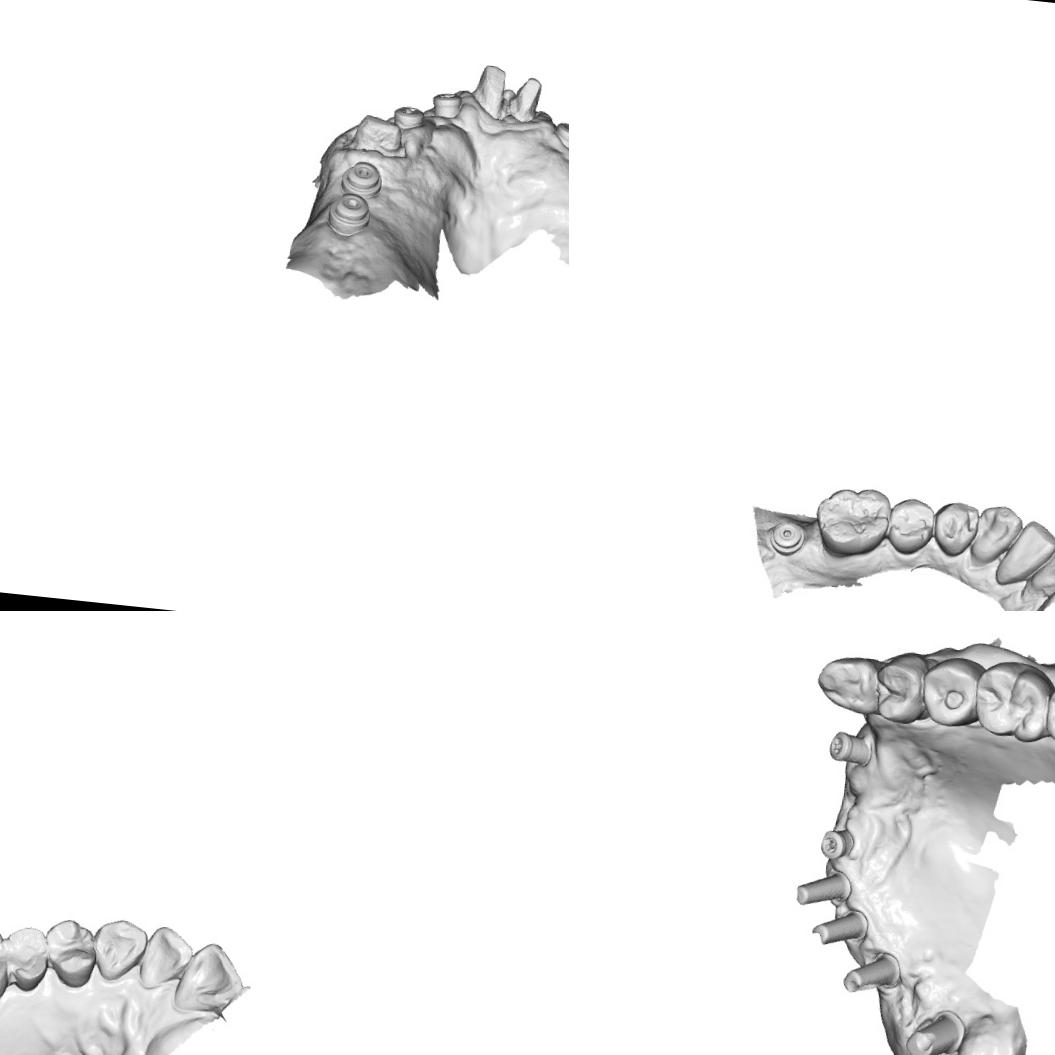abutment: (839, 945, 902, 999), (899, 1005, 966, 1055), (788, 866, 854, 911), (810, 905, 872, 950)
canine: (87, 912, 151, 986), (813, 652, 883, 717), (967, 501, 1026, 566)
crown: (467, 60, 510, 122), (504, 73, 546, 127)
implant: (322, 188, 375, 241), (337, 154, 386, 202), (768, 519, 809, 558), (426, 86, 464, 124), (388, 103, 426, 134), (551, 117, 569, 155)
implant_plus: (826, 728, 874, 770), (816, 824, 856, 862)
incisor: (170, 937, 250, 1018), (993, 516, 1055, 591), (136, 922, 194, 994), (1026, 535, 1055, 595)
molar: (970, 657, 1055, 746), (810, 482, 892, 562), (953, 1009, 1025, 1055)
premolar: (916, 652, 987, 731), (872, 648, 932, 726), (41, 916, 101, 992), (0, 920, 47, 996), (884, 494, 938, 559), (930, 498, 981, 560)
